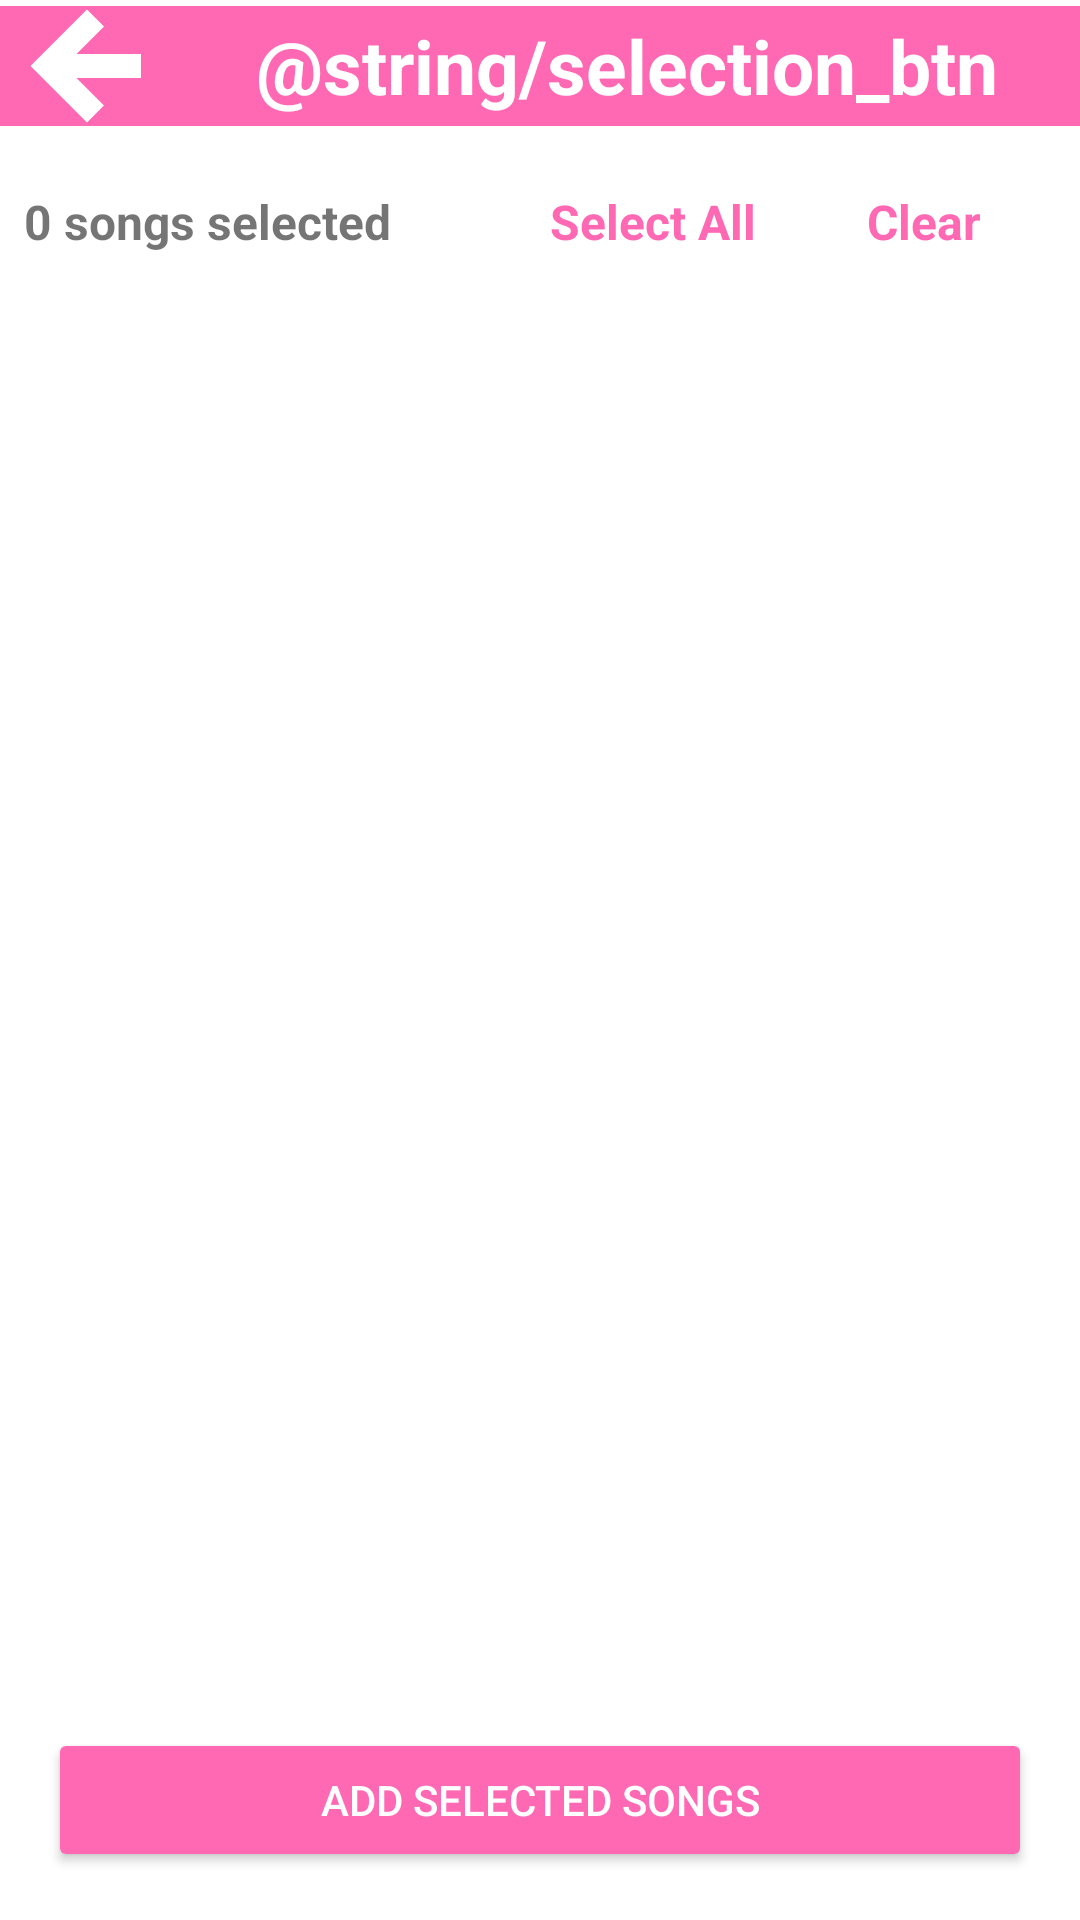

Icon click points for this 1080*1920 phone screenshot, format point (x, y):
Back: point (86, 66)
